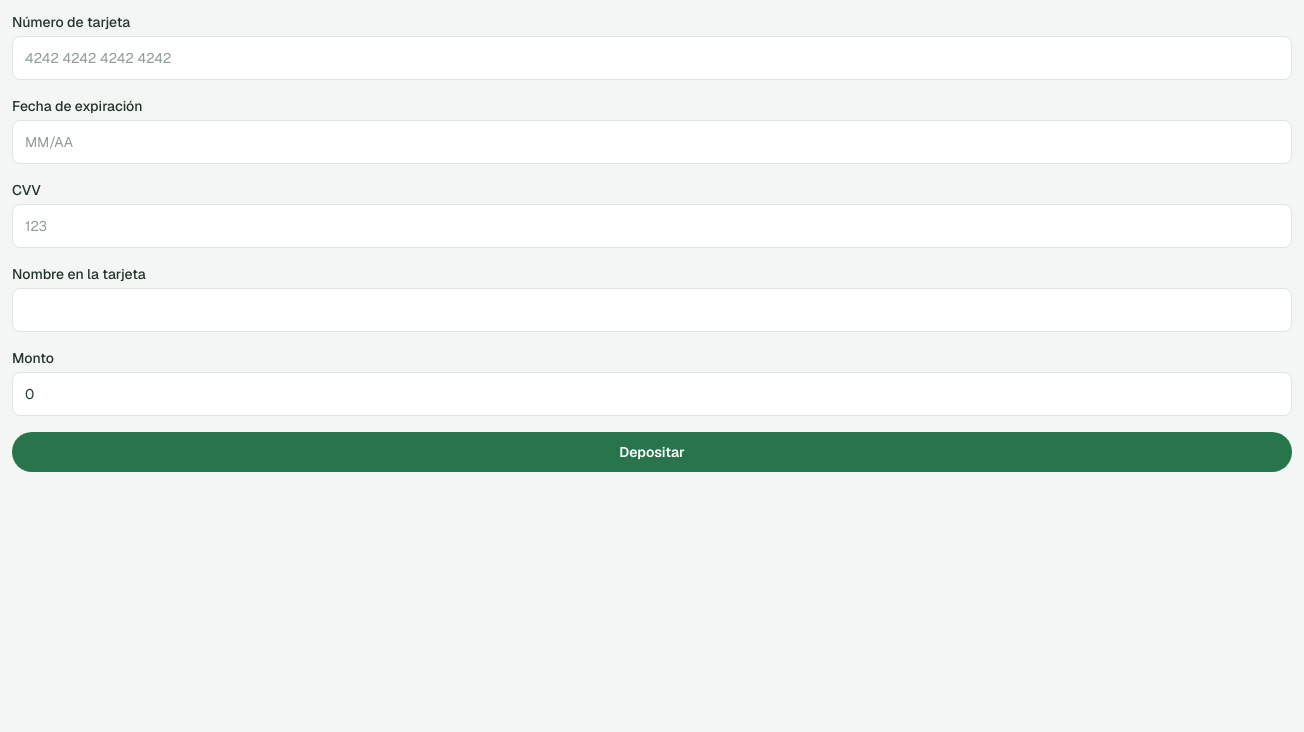
DepositForm › shows a field error when the expiration date format is wrong
In the field labelled "Número de tarjeta": x=652, y=58 x1=12 y1=36 x2=1292 y2=80, type "4242424242424242"
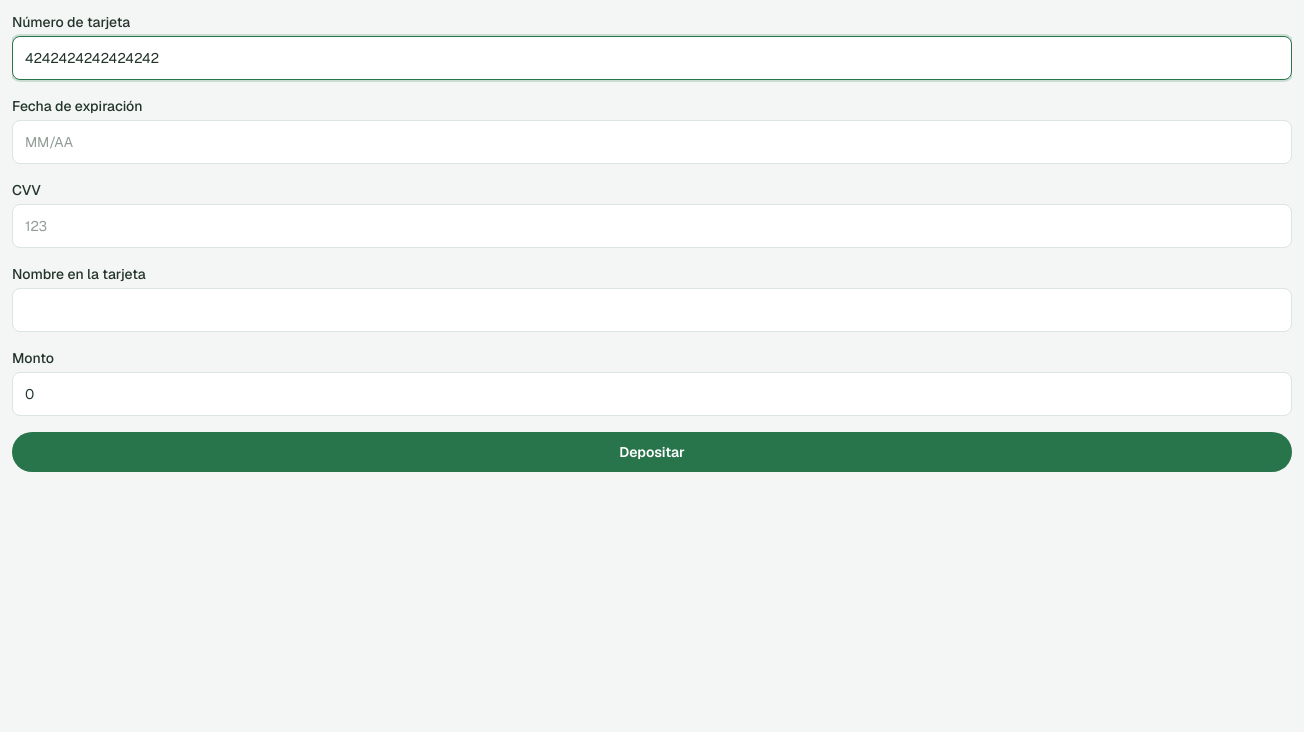
In the field labelled "Fecha de expiración": x=652, y=142 x1=12 y1=120 x2=1292 y2=164, type "13/30"
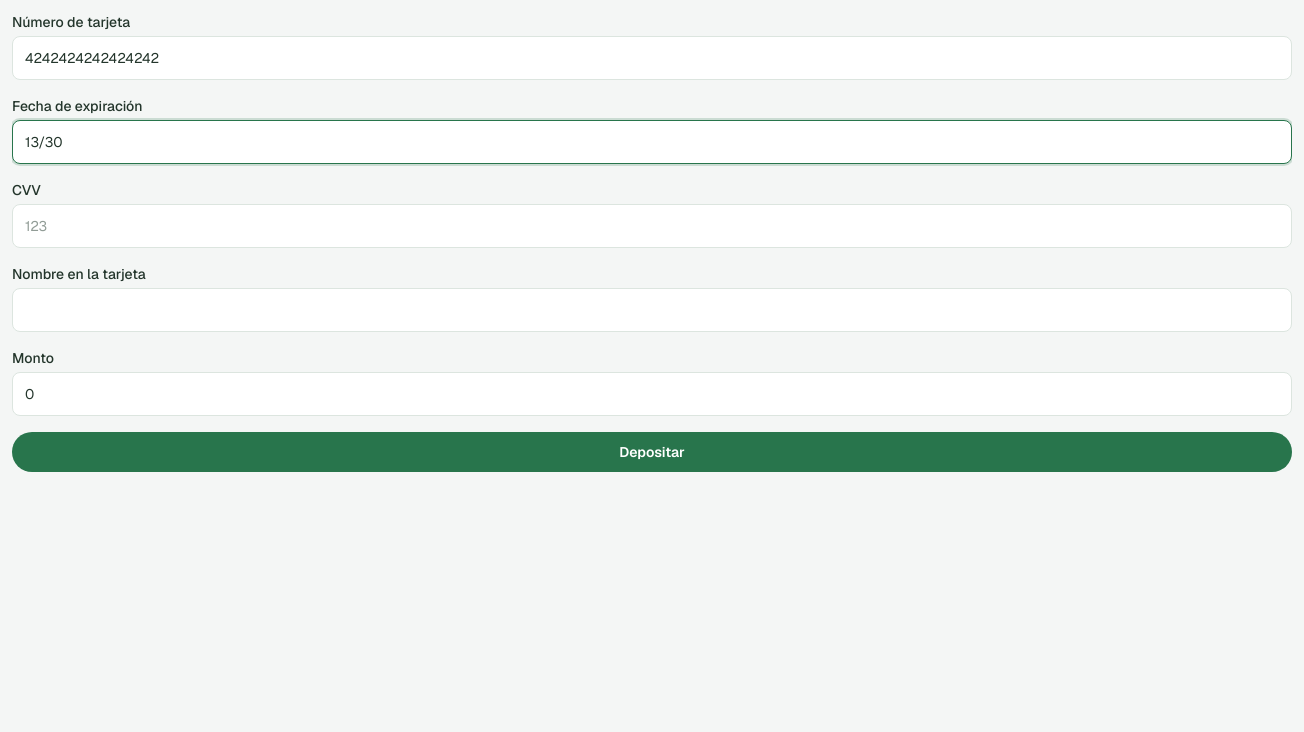
In the password field labelled "CVV": x=652, y=226 x1=12 y1=204 x2=1292 y2=248, type "123"
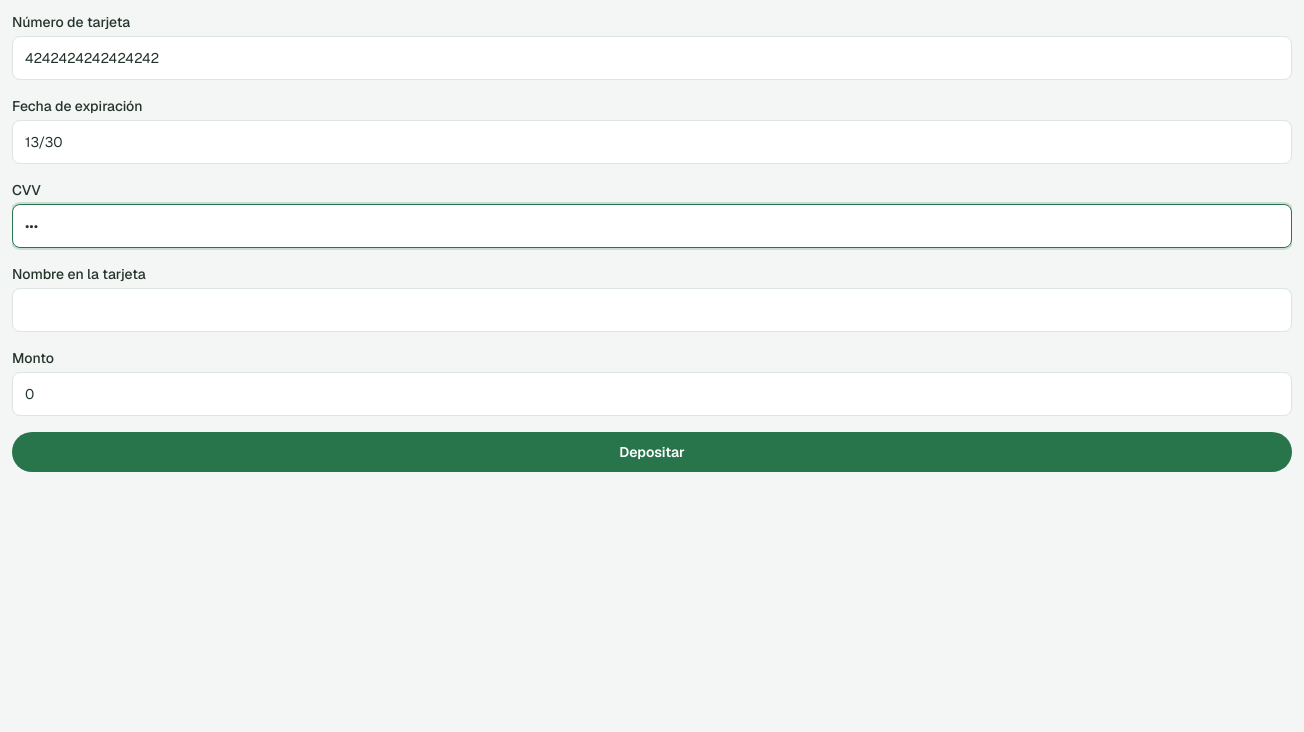
In the field labelled "Nombre en la tarjeta": x=652, y=310 x1=12 y1=288 x2=1292 y2=332, type "Ana Martínez"
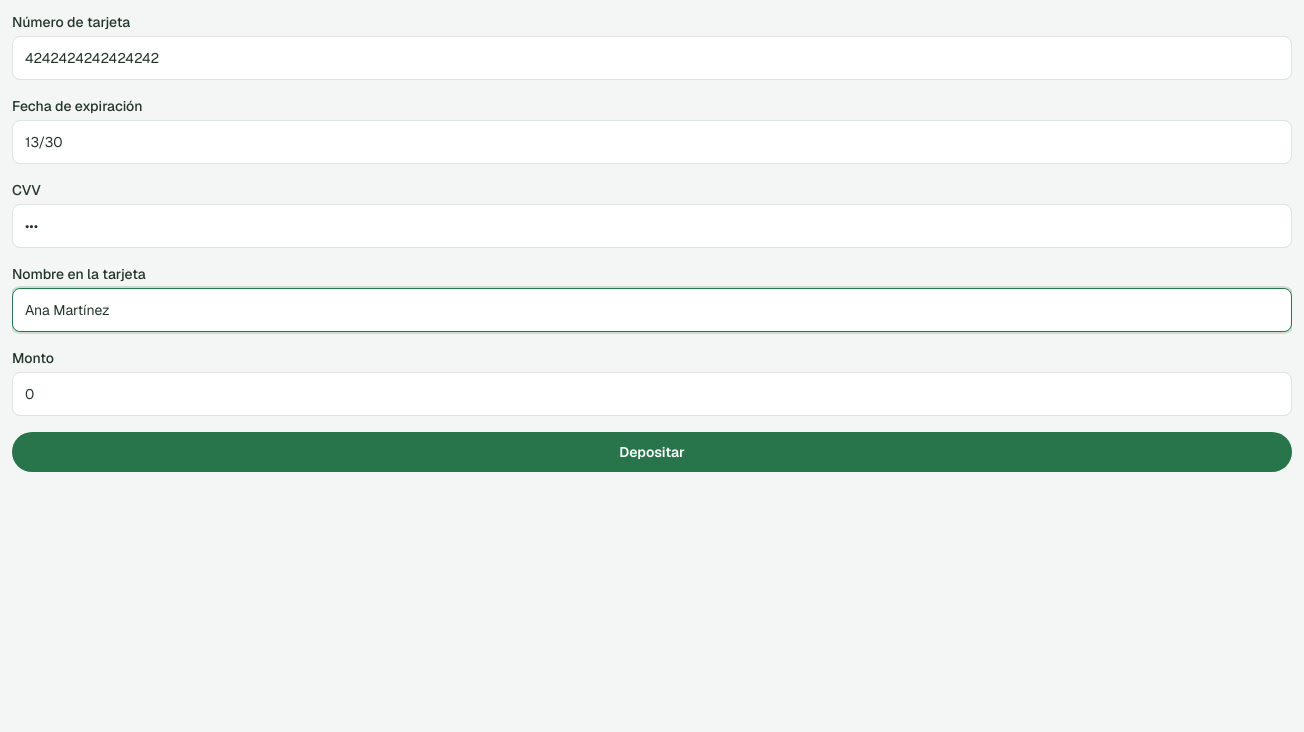
In the number field labelled "Monto": x=652, y=394 x1=12 y1=372 x2=1292 y2=416, type "500"
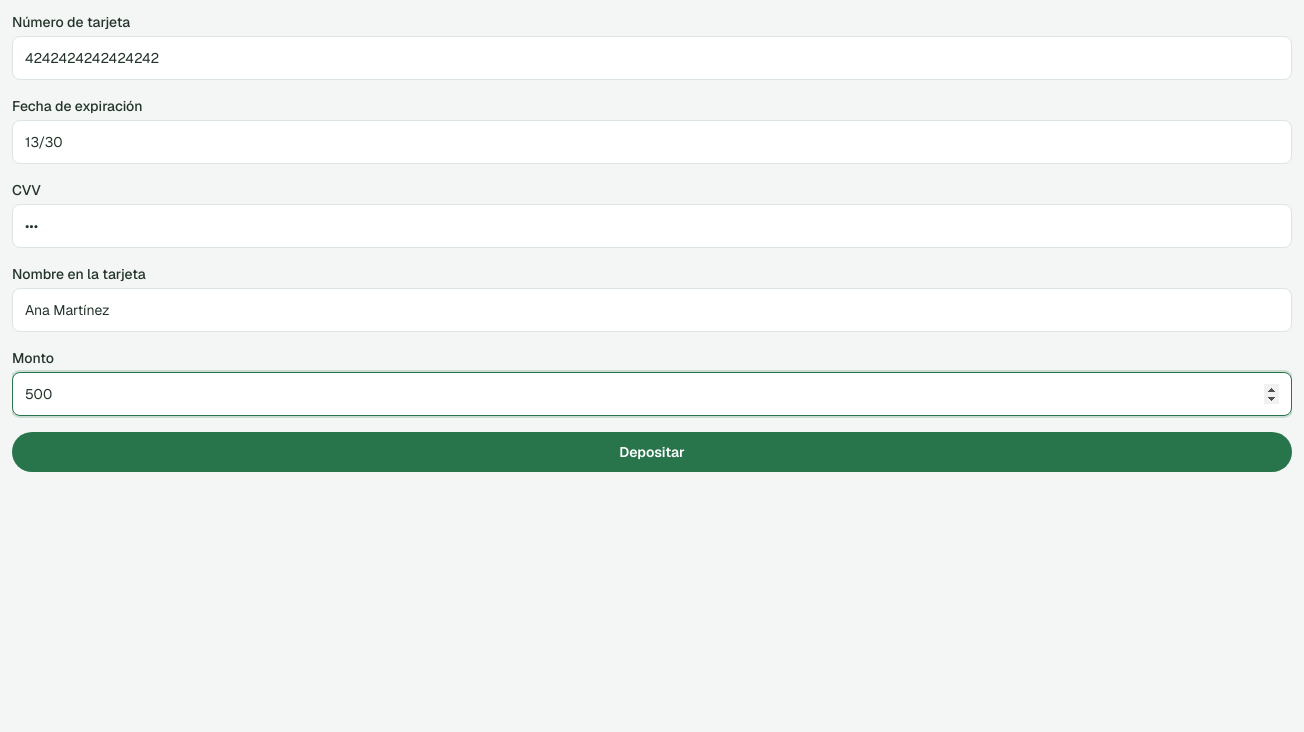
Click the button "Depositar": x=652, y=452 x1=12 y1=432 x2=1292 y2=472
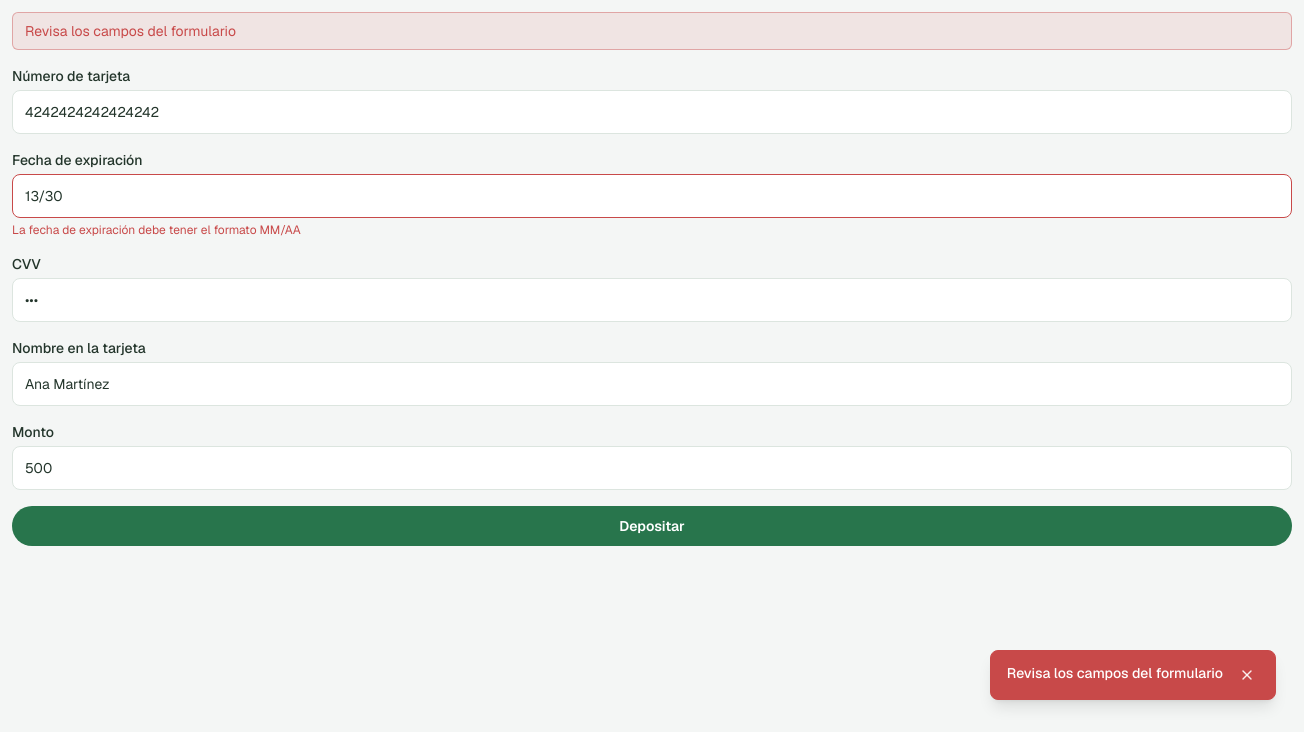
Check: the text "La fecha de expiración debe tener el formato MM/AA" is shown, box x1=12 y1=222 x2=301 y2=238
